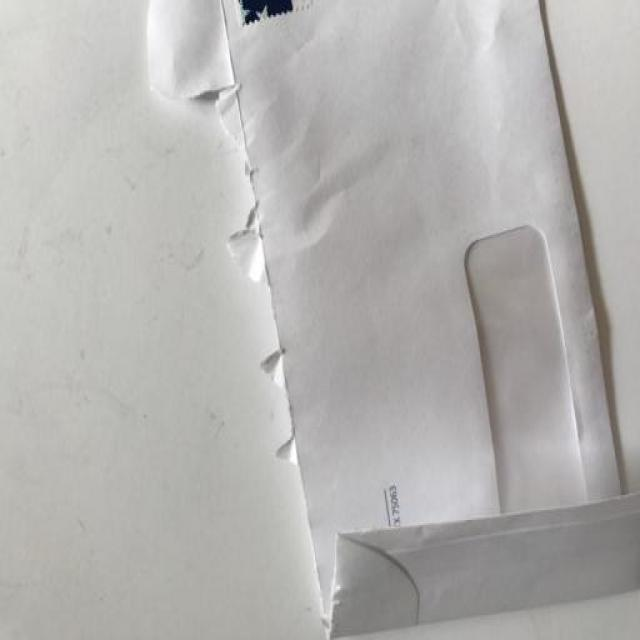paper: (132, 2, 640, 640)
